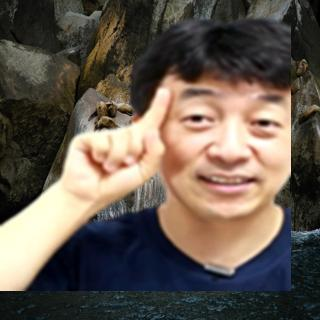IRRITATED: (55, 83, 173, 205)
